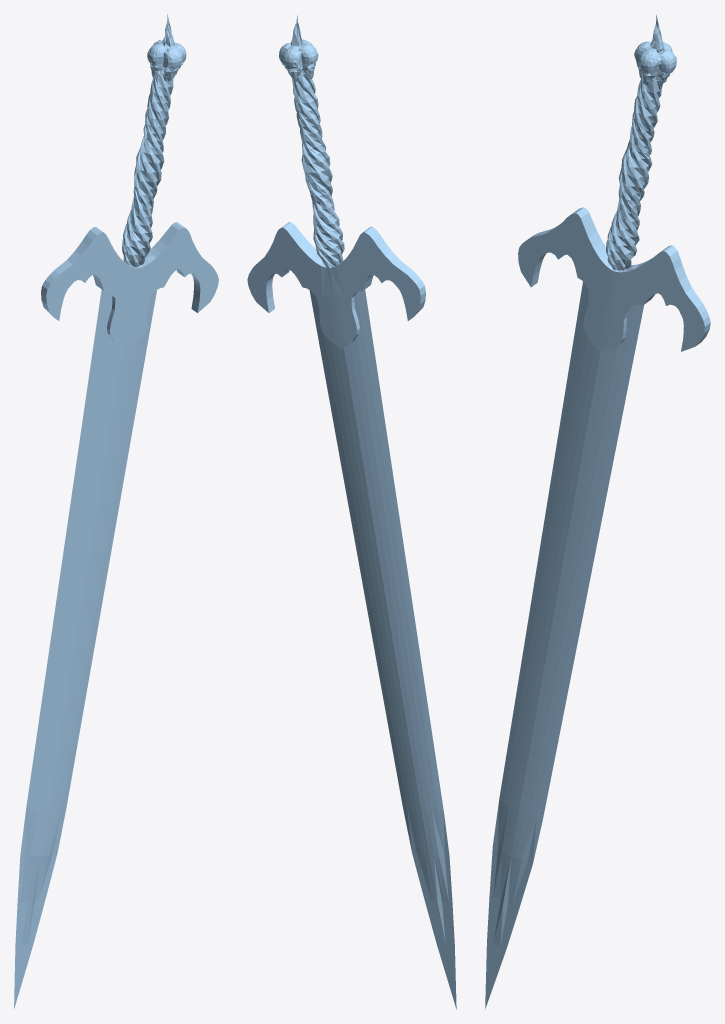
File: force-edge.glb
The picture shows the model from 3 angles, left to right: view 1: azimuth 30°, elevation 25°; view 2: azimuth 150°, elevation 25°; view 3: azimuth 330°, elevation 25°; orthographic projection. The views are drawn at different scales.
Parts seen in each view (by area): view 1: force-edge spectral mesh; view 2: force-edge spectral mesh; view 3: force-edge spectral mesh.
Part boxes in pixels (bbox=[...]): force-edge spectral mesh: bbox=[14, 14, 218, 1008]; force-edge spectral mesh: bbox=[247, 15, 456, 1009]; force-edge spectral mesh: bbox=[485, 15, 710, 1009].
Bounding box in the file's own units: 0.1742 × 0.78 × 0.0303.
